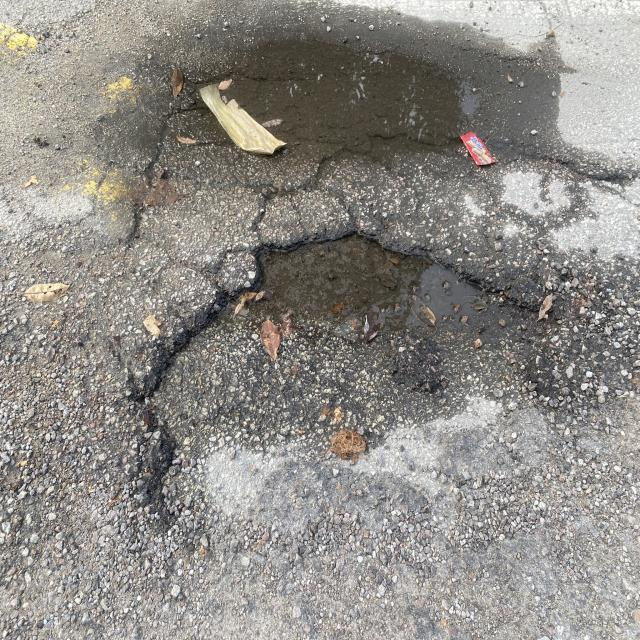pothole: (100, 203, 572, 553)
